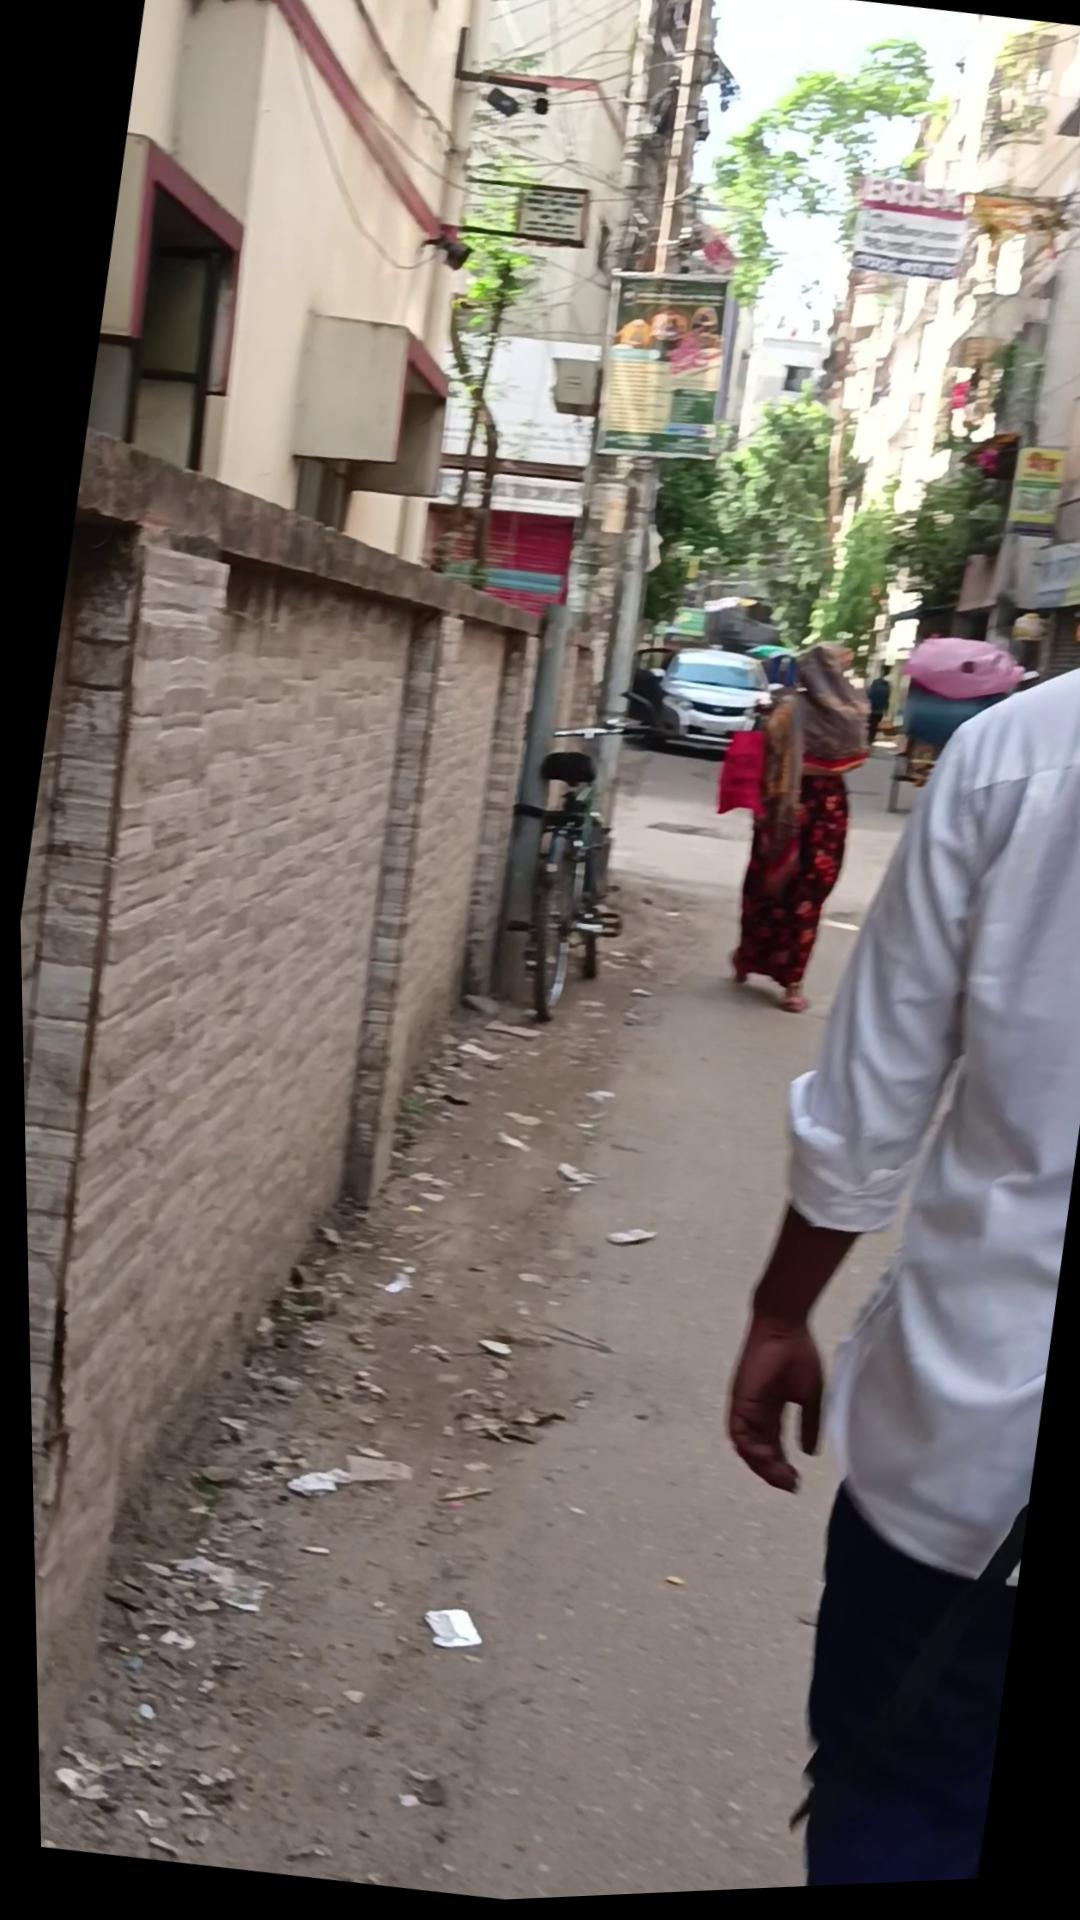Light-pole: (473, 704, 658, 1040)
Muddy road: (624, 603, 1080, 1899), (708, 636, 889, 1029), (855, 670, 890, 754)
Obstacle: (555, 462, 670, 914), (475, 601, 580, 1007)
Tree: (8, 425, 559, 1895)
